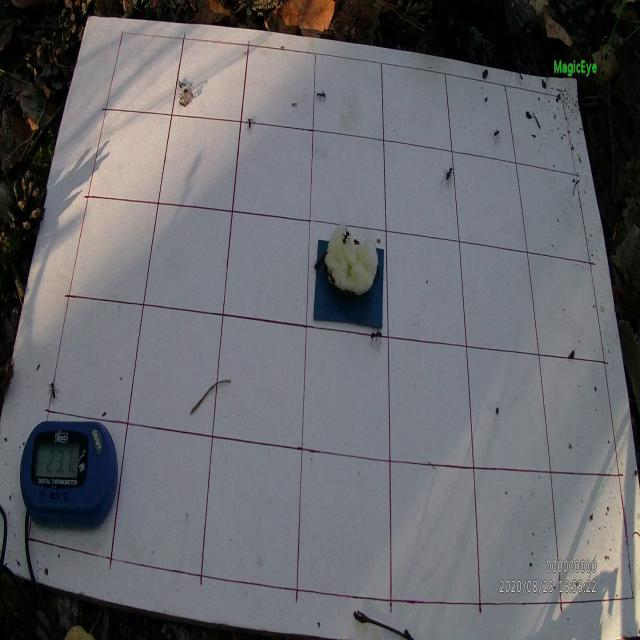Ant: (442, 163, 455, 187), (371, 328, 382, 350), (326, 264, 336, 286), (48, 382, 59, 401), (342, 284, 356, 297), (342, 228, 351, 244), (490, 127, 501, 140), (315, 89, 326, 101), (246, 118, 253, 133), (320, 250, 328, 263), (354, 239, 361, 246)
